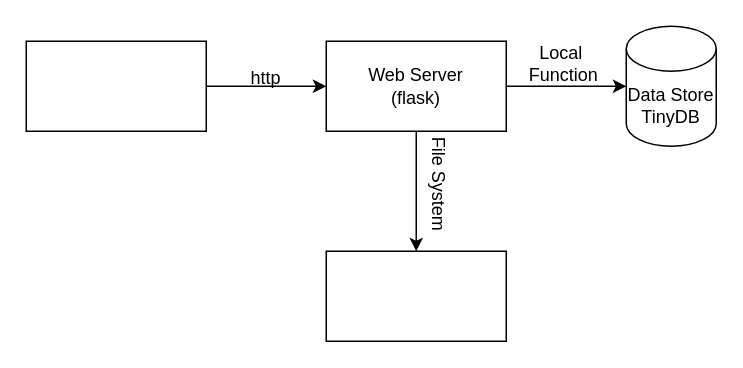
Some shapes in this 743 by 368 pixel diagram are drawn without their labels. The shapes that lost their labels are listed below. From the top down, each one's centre as x and y in pixels, then its label:
At point (115, 85): "Browser".
At point (415, 295): "Content (html, CSS)".
